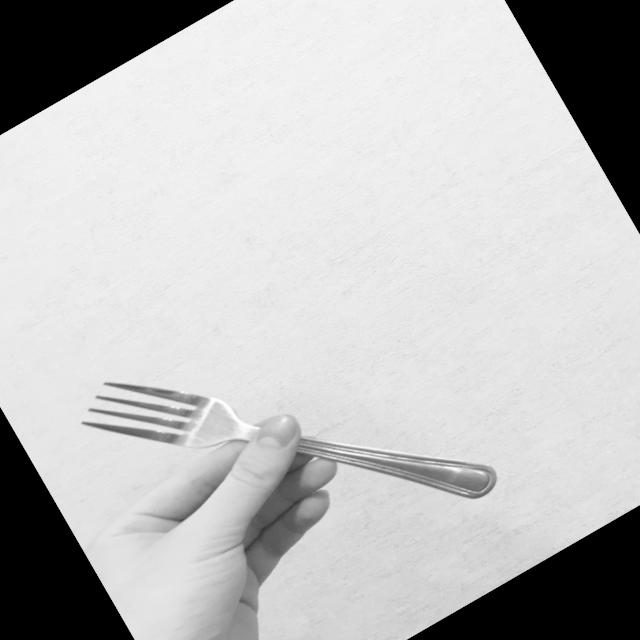fork: (69, 234, 504, 640)
